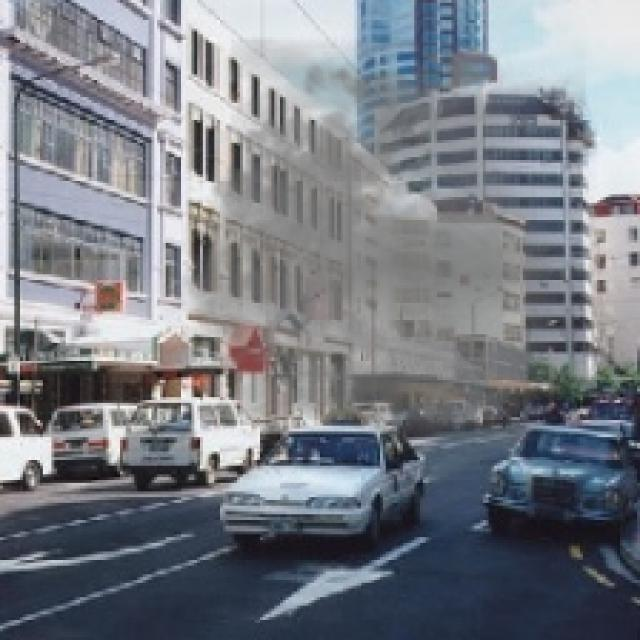smoke: (160, 37, 586, 452)
